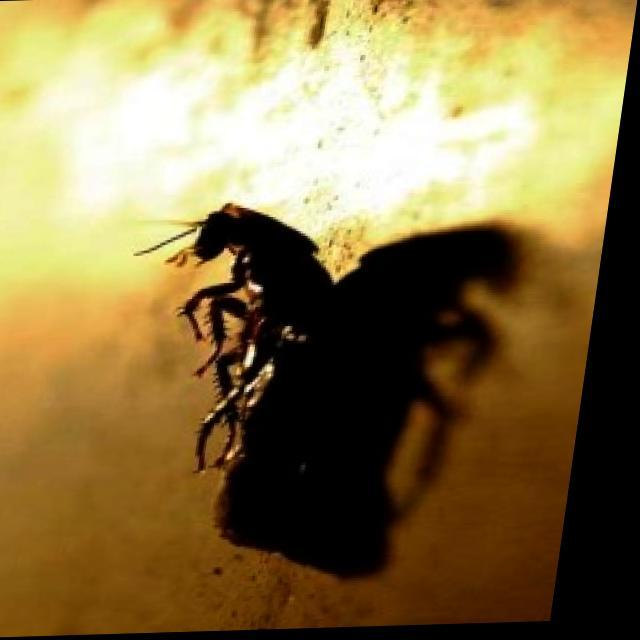cockroach: (129, 195, 553, 583)
